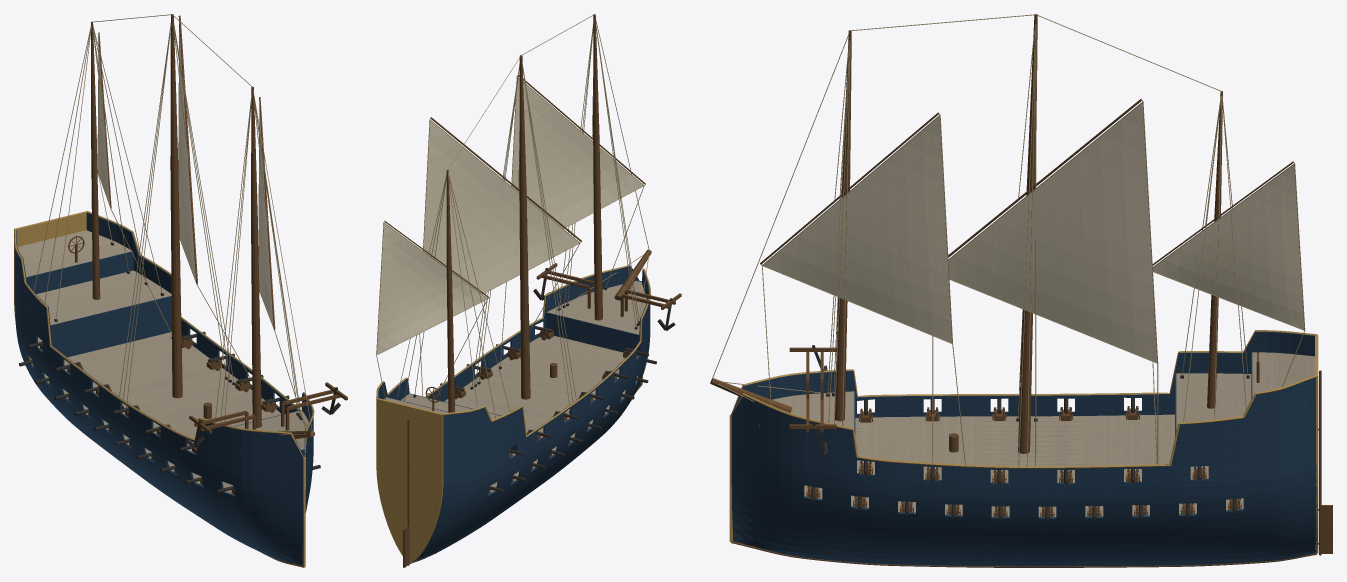
3 renders of one model, left to right at view 1: azimuth 30°, elevation 25°; view 2: azimuth 150°, elevation 25°; view 3: azimuth 270°, elevation 25°, orthographic. The views are drawn at different scales.
Visible parts, largest first — view 1: lod2_hull_shell_starboard, lod2_main_deck, lod2_castle_bulkhead_1_1, lod2_hull_shell_port, lod2_castle_deck_1, lod2_main, lod2_castle_deck_0, lod2_fore, lod2_castle_bulkhead_0_1, lod2_main_lateen_00, lod2_mizzen, lod2_stern_closure (+16 smaller); view 2: lod2_hull_shell_starboard, lod2_main_lateen_00, lod2_fore_lateen_00, lod2_stern_closure, lod2_main_deck, lod2_mizzen_lateen_00, lod2_hull_shell_port, lod2_main, lod2_castle_deck_2, lod2_fore, lod2_castle_bulkhead_2_minus_1, lod2_mizzen (+9 smaller); view 3: lod2_hull_shell_port, lod2_main_lateen_00, lod2_fore_lateen_00, lod2_main_deck, lod2_mizzen_lateen_00, lod2_hull_shell_starboard, lod2_castle_deck_1, lod2_main, lod2_fore, lod2_castle_deck_0, lod2_gunwale_port, lod2_mizzen (+5 smaller).
Part boxes in pixels (box(x1,y1,x2,y2)): lod2_hull_shell_starboard: box(15, 230, 303, 565); lod2_main_deck: box(38, 332, 280, 452); lod2_castle_bulkhead_1_1: box(50, 296, 171, 357); lod2_hull_shell_port: box(86, 212, 313, 512); lod2_castle_deck_1: box(36, 270, 171, 325); lod2_main: box(170, 14, 182, 398); lod2_castle_deck_0: box(17, 230, 132, 277); lod2_fore: box(251, 87, 261, 427); lod2_castle_bulkhead_0_1: box(26, 251, 133, 294); lod2_main_lateen_00: box(178, 32, 195, 280); lod2_mizzen: box(91, 21, 100, 299); lod2_stern_closure: box(14, 211, 86, 364); lod2_hull_shell_starboard: box(412, 269, 650, 561); lod2_main_lateen_00: box(423, 120, 579, 293); lod2_fore_lateen_00: box(512, 77, 643, 228); lod2_stern_closure: box(376, 398, 443, 562); lod2_main_deck: box(444, 335, 637, 456); lod2_mizzen_lateen_00: box(377, 223, 486, 354); lod2_hull_shell_port: box(378, 266, 639, 401); lod2_main: box(519, 55, 530, 399); lod2_castle_deck_2: box(547, 281, 647, 334); lod2_fore: box(593, 14, 602, 320); lod2_castle_bulkhead_2_minus_1: box(546, 312, 639, 355); lod2_mizzen: box(446, 169, 454, 412); lod2_hull_shell_port: box(731, 377, 1316, 566); lod2_main_lateen_00: box(948, 103, 1157, 362); lod2_fore_lateen_00: box(763, 116, 952, 342); lod2_main_deck: box(855, 414, 1208, 482); lod2_mizzen_lateen_00: box(1153, 164, 1304, 329); lod2_hull_shell_starboard: box(731, 331, 1314, 417); lod2_castle_deck_1: box(1176, 373, 1251, 430); lod2_main: box(1018, 14, 1037, 453); lod2_fore: box(835, 30, 851, 421); lod2_castle_deck_0: box(1252, 352, 1314, 397); lod2_gunwale_port: box(731, 375, 1317, 468); lod2_mizzen: box(1207, 91, 1222, 408).
Bounding box in the file's own units: 11.58 × 34.22 × 34.88.
7 materials, 7 textured.
